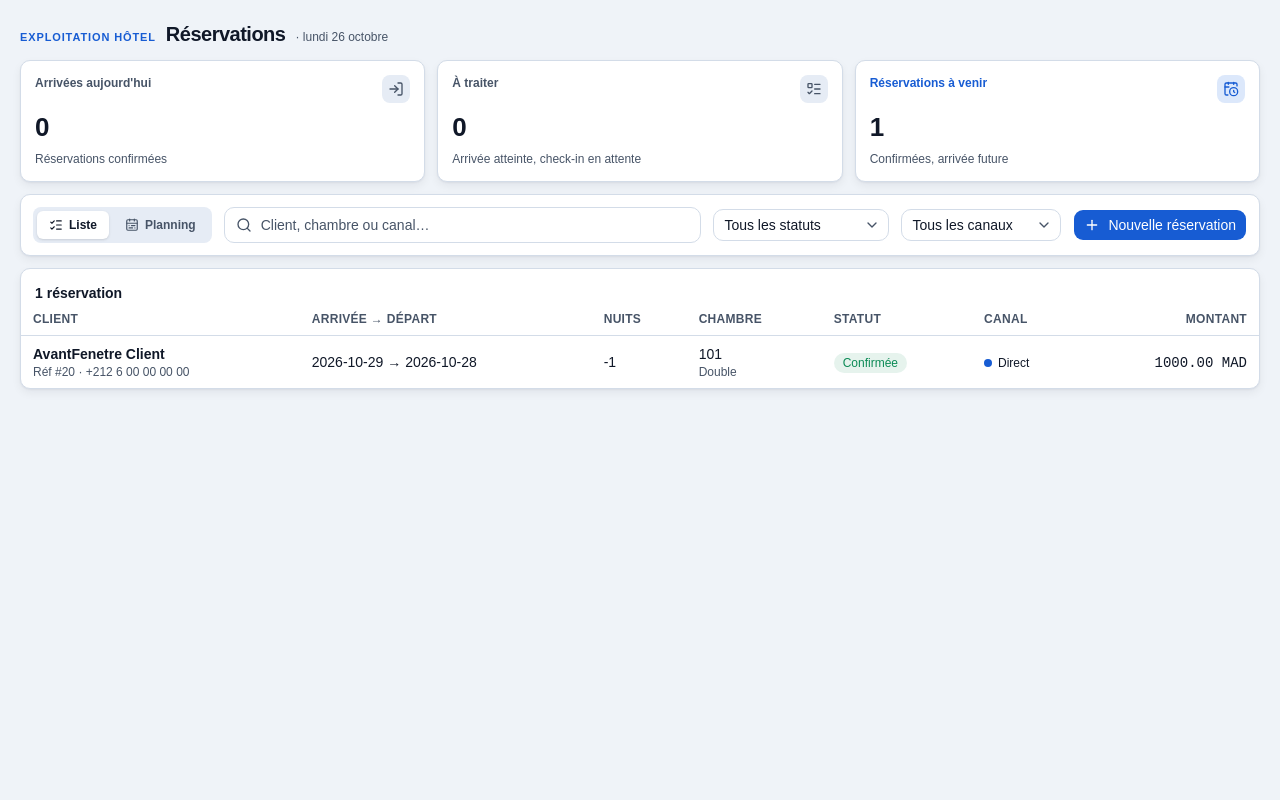
Test: ReservationsCalendarPage — panneau contextuel › propose le self check-in pour une réservation confirmée à venir
Click the button with aria-label "Ouvrir la réservation de AvantFenetre Client".
click(77, 354)  # box top-left (21, 336), bottom-right (1259, 388)
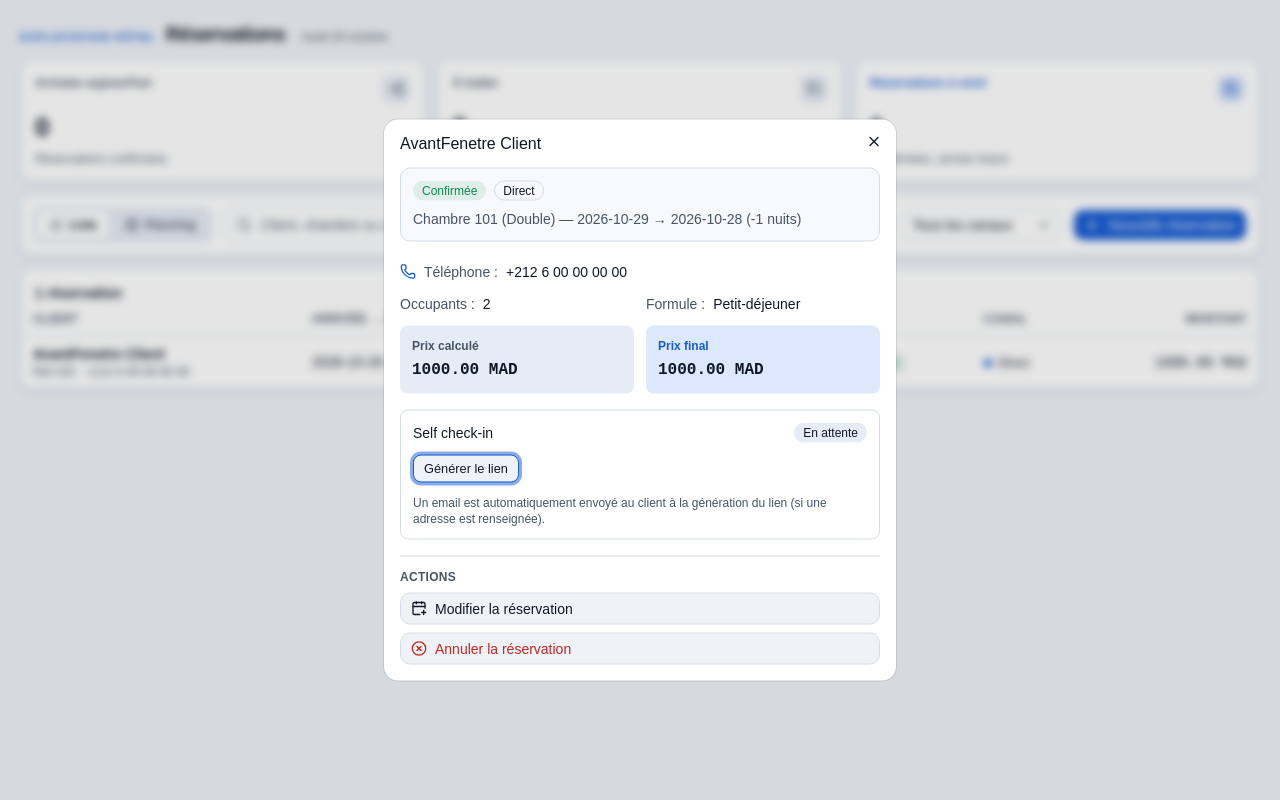
Check: the text "Self check-in" is shown, box top-left (413, 422), bottom-right (493, 442)
